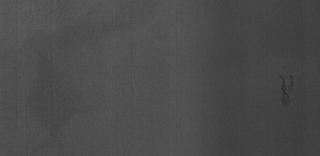water spot: (276, 68, 300, 111)
